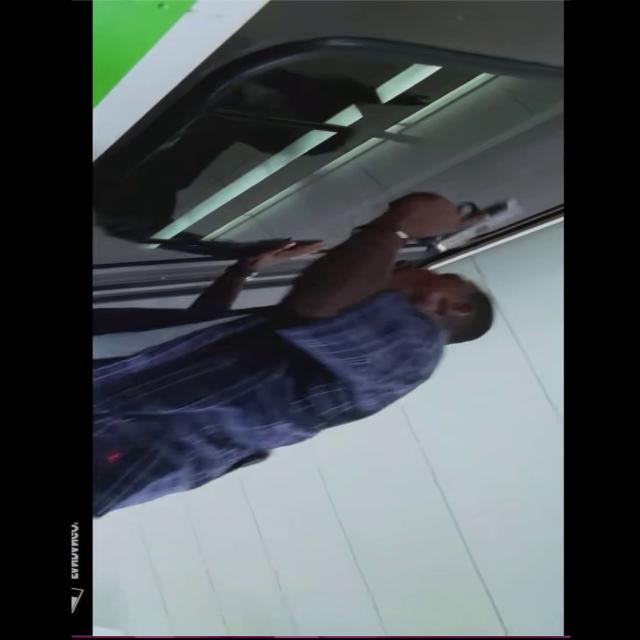weapons: (377, 184, 527, 258)
